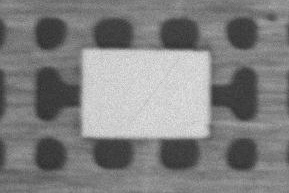DIE_CRACK: (192, 39, 268, 84)
